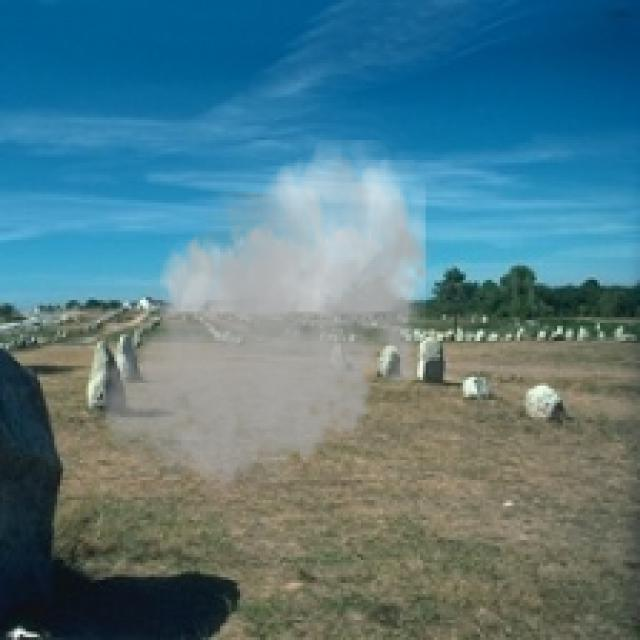smoke: (94, 140, 440, 506)
